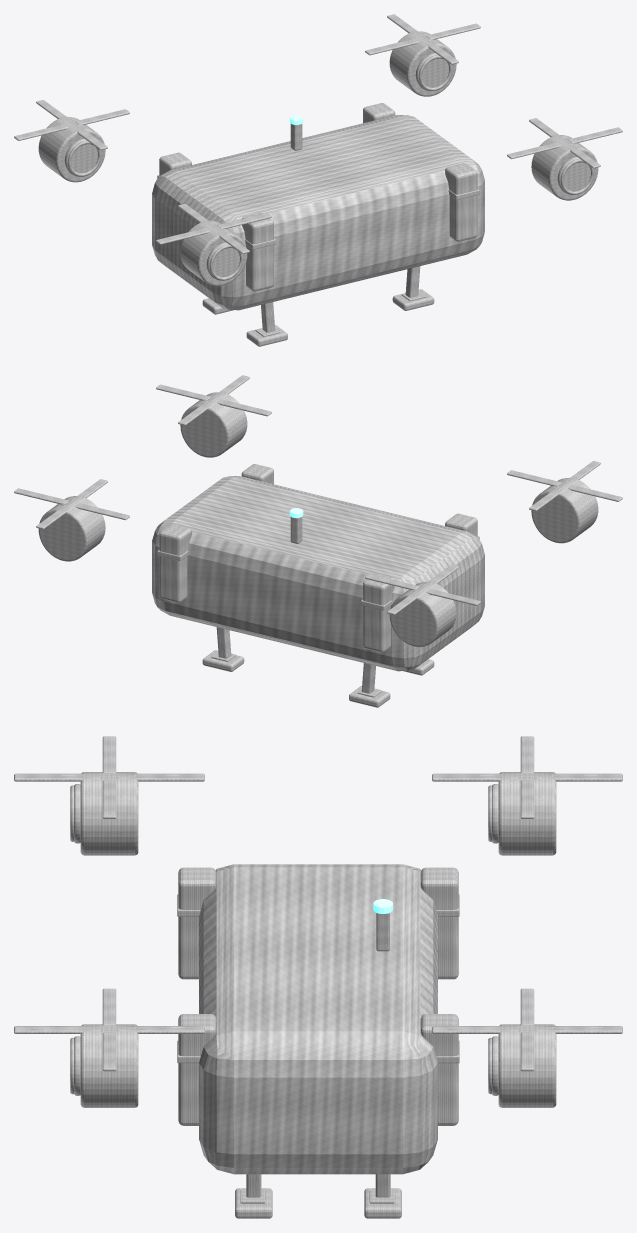
File: drone_variant_a.glb
3 renders of one model, top to bottom at view 1: azimuth 30°, elevation 25°; view 2: azimuth 150°, elevation 25°; view 3: azimuth 270°, elevation 25°, orthographic. The views are drawn at different scales.
Visible parts, largest first — view 1: Central fuselage.001, Rotor arm.001, Rotor motor pod.001, Rotor motor pod.003, Rotor motor pod, Rotor motor pod.002, Rotor arm, Motor cap.001, Motor cap, Motor cap.003, Motor cap.002, Rotor arm.002 (+3 smaller); view 2: Central fuselage.001, Rotor motor pod.001, Rotor motor pod.003, Rotor motor pod.002, Rotor motor pod, Rotor arm.003, Rotor arm.002, Rotor arm, Landing foot.003, Landing foot.001, Rotor arm.001; view 3: Central fuselage.001, Rotor motor pod, Rotor motor pod.002, Rotor motor pod.001, Rotor motor pod.003, Rotor arm, Rotor arm.002, Rotor arm.001, Rotor arm.003, Landing foot.002, Landing foot.003, Rotor blade.001 (+3 smaller).
Part boxes in pixels (x1,y1,x2,y2): Central fuselage.001: (152, 115, 484, 310); Rotor arm.001: (445, 163, 477, 241); Rotor motor pod.001: (531, 135, 598, 200); Rotor motor pod.003: (389, 31, 456, 96); Rotor motor pod: (180, 220, 247, 286); Rotor motor pod.002: (38, 116, 105, 182); Rotor arm: (242, 213, 273, 291); Motor cap.001: (557, 156, 590, 194); Motor cap: (206, 242, 239, 280); Motor cap.003: (415, 53, 448, 90); Motor cap.002: (64, 138, 97, 176); Rotor arm.002: (159, 152, 191, 176); Central fuselage.001: (152, 476, 484, 671); Rotor motor pod.001: (180, 392, 247, 457); Rotor motor pod.003: (38, 496, 105, 561); Rotor motor pod.002: (389, 581, 456, 647); Rotor motor pod: (531, 477, 598, 543); Rotor arm.003: (159, 524, 191, 602); Rotor arm.002: (363, 574, 394, 652); Rotor arm: (445, 513, 477, 537); Landing foot.003: (202, 650, 244, 671); Landing foot.001: (349, 686, 390, 707); Rotor arm.001: (241, 464, 273, 484); Central fuselage.001: (199, 864, 437, 1174); Rotor motor pod: (80, 772, 138, 855); Rotor motor pod.002: (498, 772, 556, 855); Rotor motor pod.001: (80, 1024, 138, 1107); Rotor motor pod.003: (498, 1024, 556, 1107); Rotor arm: (178, 867, 216, 979); Rotor arm.002: (420, 867, 458, 979); Rotor arm.001: (178, 1014, 216, 1125); Rotor arm.003: (420, 1014, 458, 1125); Landing foot.002: (235, 1188, 272, 1218); Landing foot.003: (364, 1188, 401, 1218); Rotor blade.001: (118, 773, 204, 781).
Size of what is drawn, in the model's own units: 7.92 by 2.82 by 6.12.
Materials: 8 (8 with a texture image).
